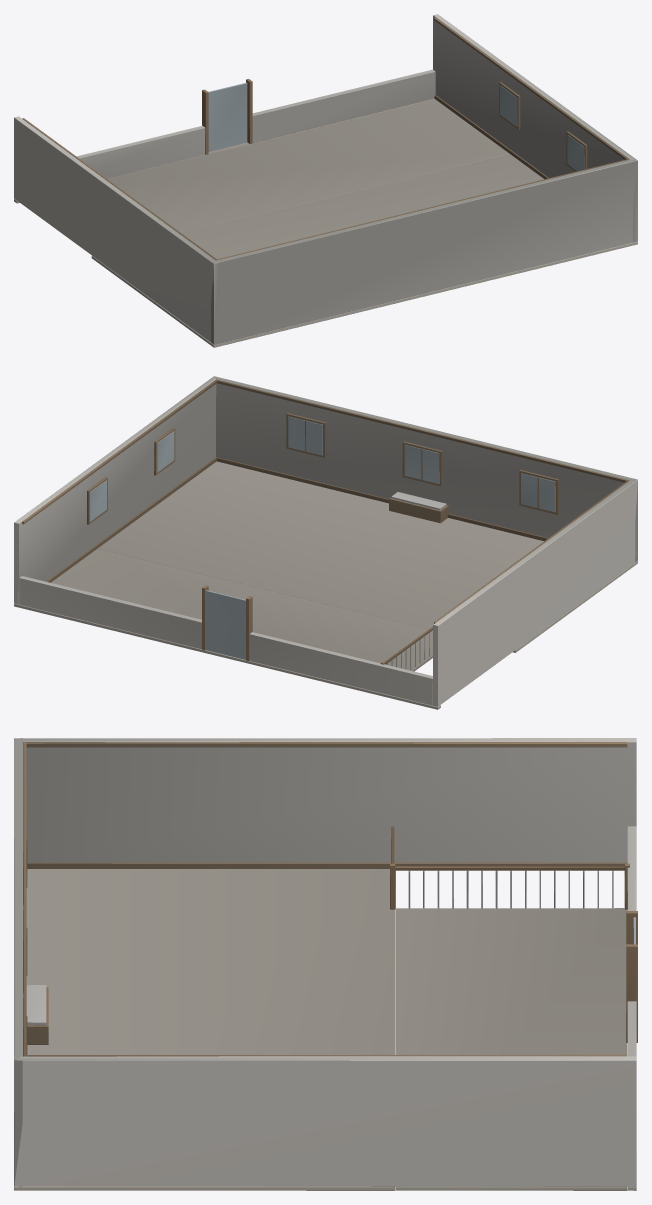
File: home_upper_room__base_low.glb
3 views of the same model, one above another, from view 1: azimuth 30°, elevation 25°; view 2: azimuth 150°, elevation 25°; view 3: azimuth 270°, elevation 25° (orthographic). The views are drawn at different scales.
Size of the model in its own units: 16.4 by 3.11 by 13.42.
